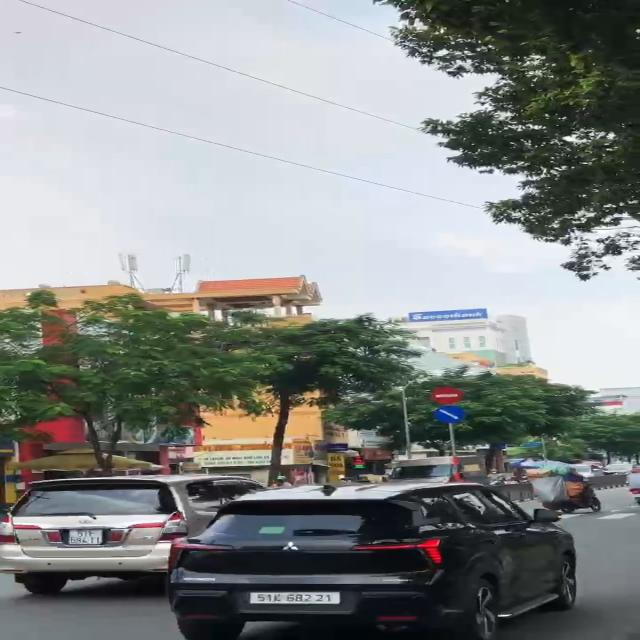Bien bao cam di nguoc chieu: (428, 386, 466, 406)
Bien bao huong phai di vong chuong ngai vat: (430, 406, 471, 426)
